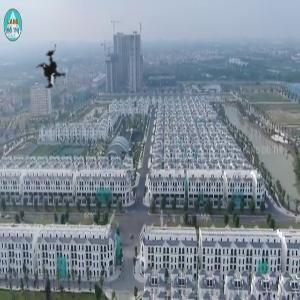drone: (9, 10, 123, 124)
